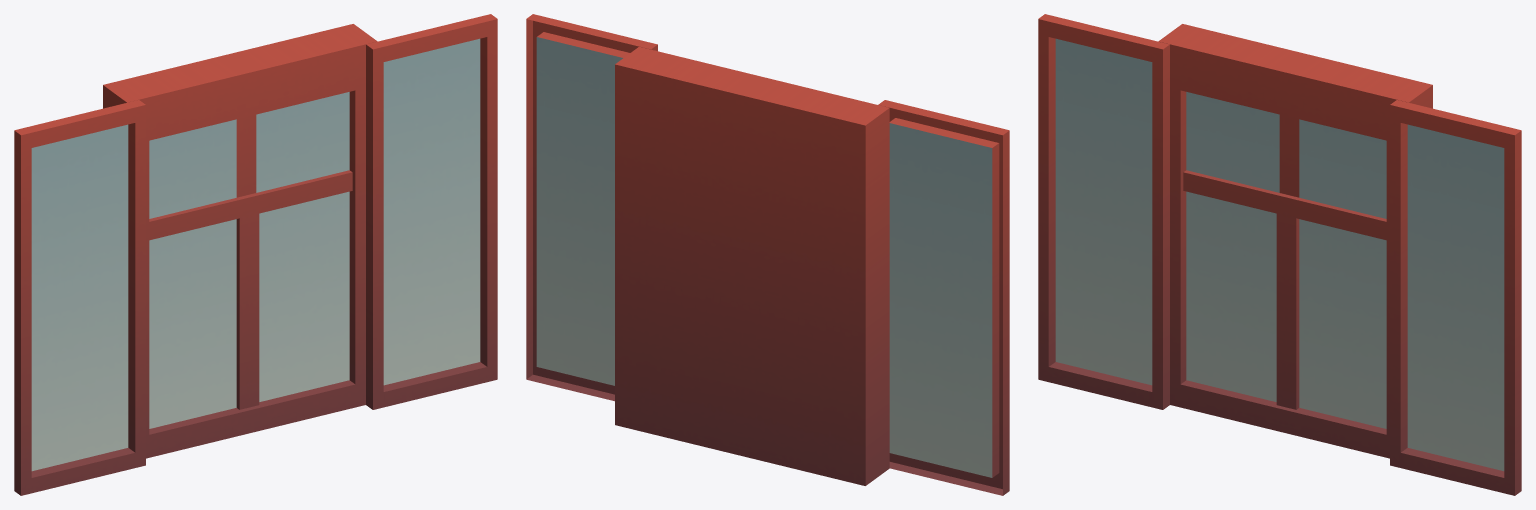
The model's file is ItemProps_Window.fbx.
3 renders of one model, left to right at view 1: azimuth 30°, elevation 25°; view 2: azimuth 150°, elevation 25°; view 3: azimuth 330°, elevation 25°, orthographic.
Parts seen in each view (by area): view 1: Cube.052; view 2: Cube.052; view 3: Cube.052.
Part boxes in pixels (x1,y1,x2,y2): Cube.052: [14, 14, 497, 495]; Cube.052: [526, 14, 1009, 495]; Cube.052: [1038, 14, 1521, 495].
Size of the model in its own units: 277 by 200 by 31.38.
